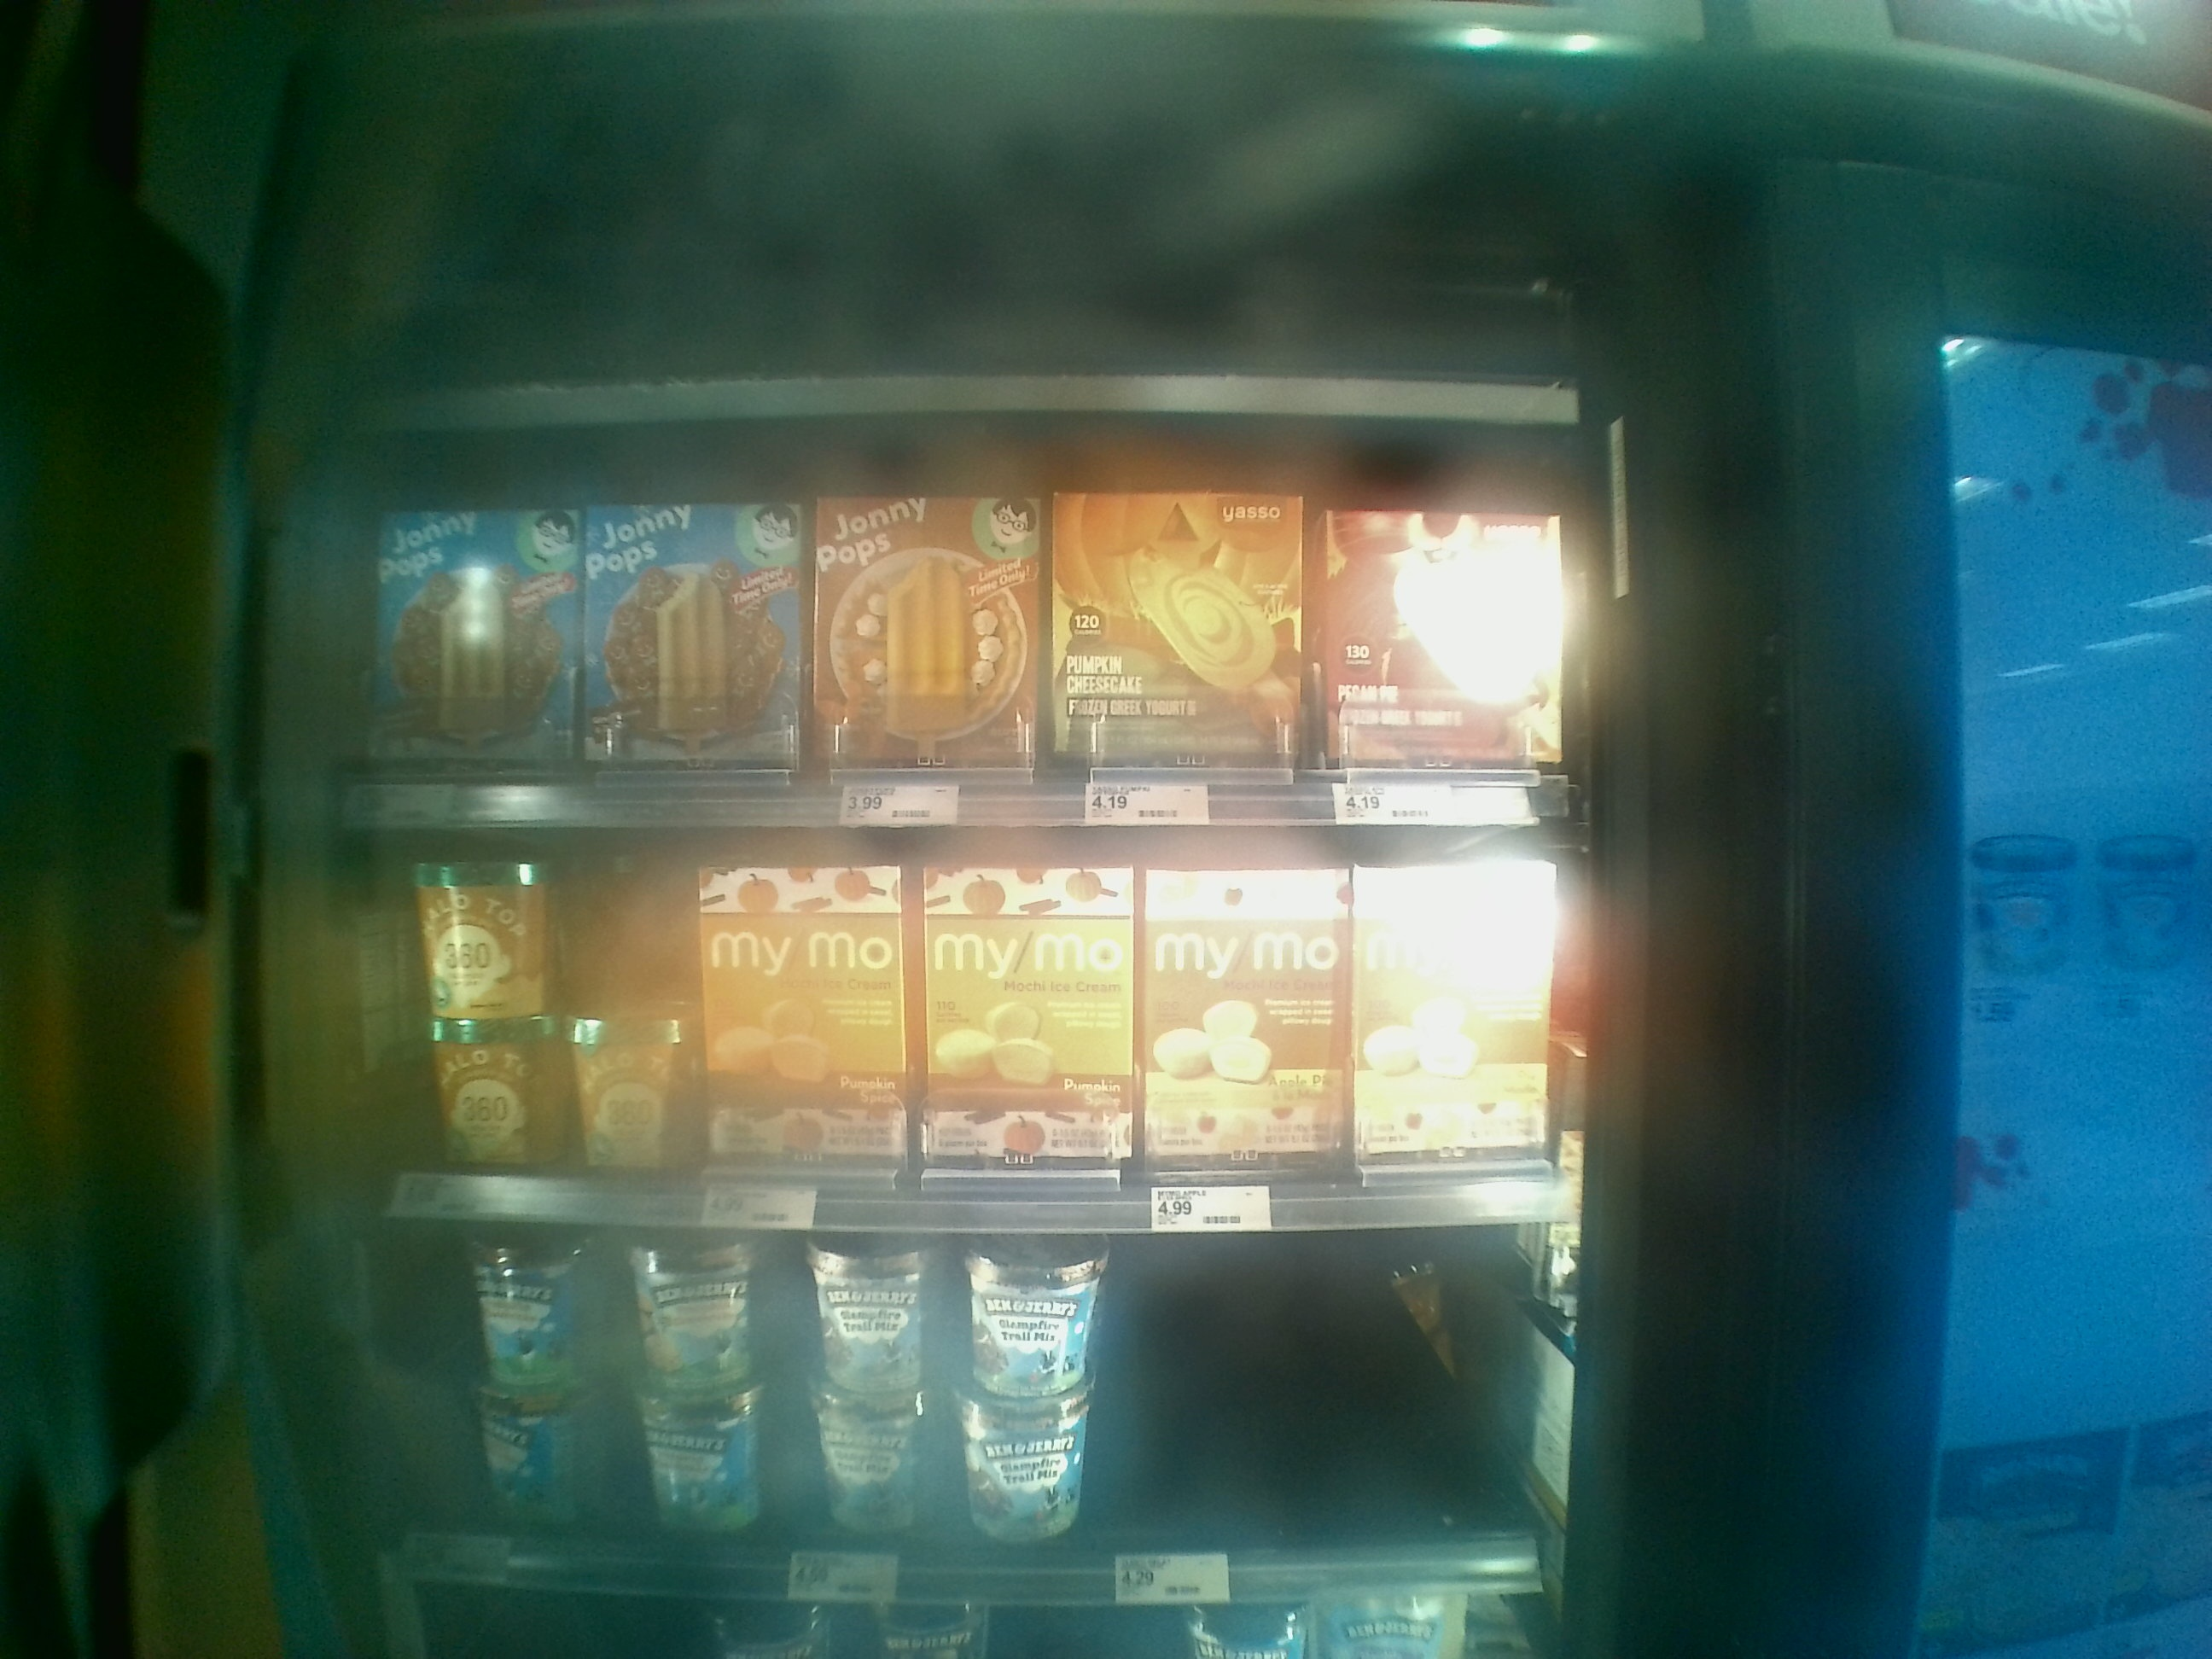shelf: (374, 774, 1578, 1201), (376, 390, 1581, 798), (380, 1169, 1559, 1581)
